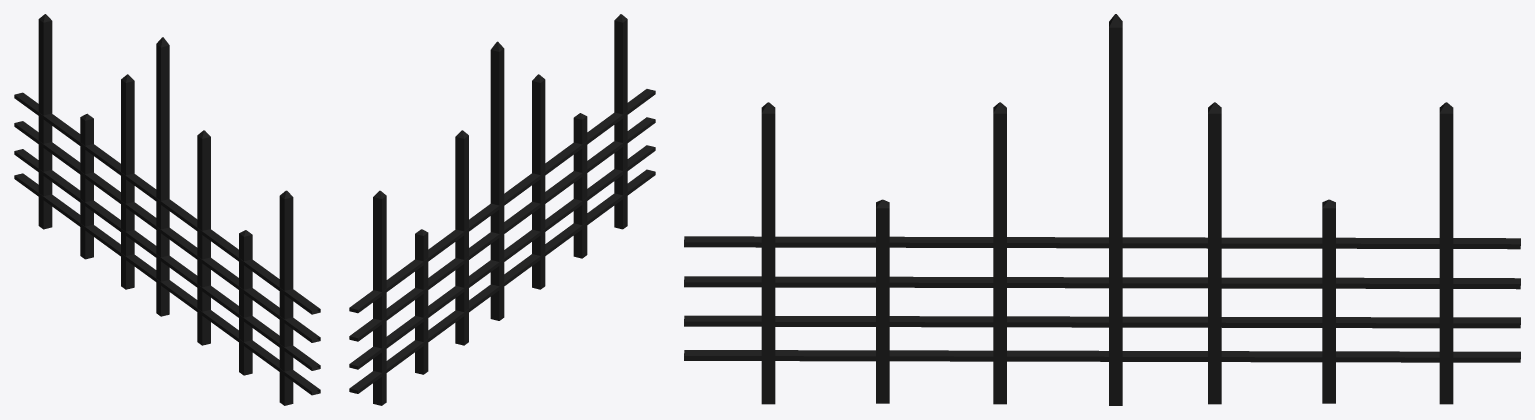
Rendered from gate_steel.obj.
The picture shows the model from 3 angles, left to right: view 1: azimuth 30°, elevation 25°; view 2: azimuth 150°, elevation 25°; view 3: azimuth 270°, elevation 25°; orthographic projection. The views are drawn at different scales.
Visible parts, largest first — view 1: Cube; view 2: Cube; view 3: Cube.
Part boxes in pixels (left/top/right/bottom): Cube: left=14, top=14, right=320, bottom=405; Cube: left=349, top=14, right=655, bottom=405; Cube: left=684, top=14, right=1520, bottom=405.
Size of the model in its own units: 0.2448 by 7.19 by 14.04.
